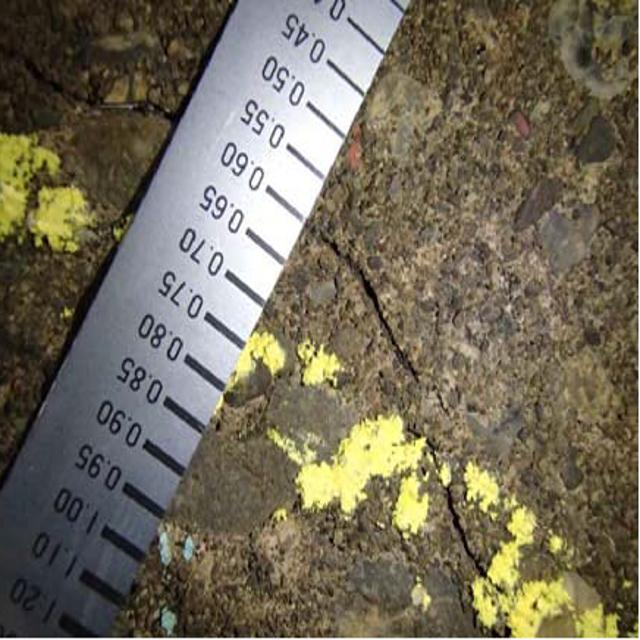crack: (313, 236, 517, 631), (4, 37, 183, 133)
